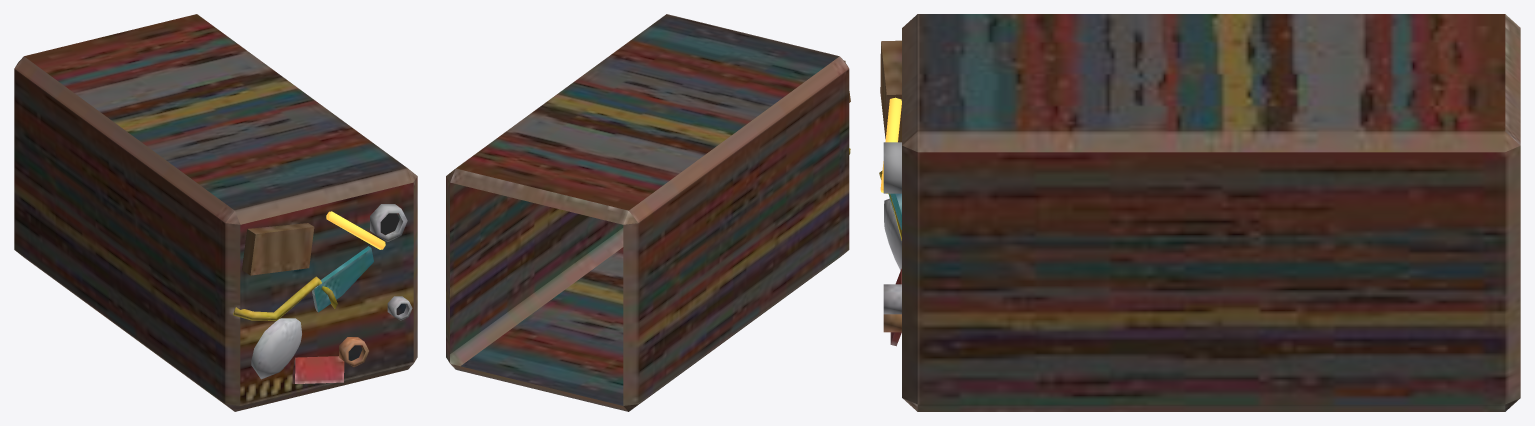
File: tile_junk.glb
The picture shows the model from 3 angles, left to right: view 1: azimuth 30°, elevation 25°; view 2: azimuth 150°, elevation 25°; view 3: azimuth 270°, elevation 25°; orthographic projection. The views are drawn at different scales.
Visible parts, largest first — view 1: tile_junk; view 2: tile_junk; view 3: tile_junk.
Boxes of the visible parts, <box> form: tile_junk: <box>14,14,417,411</box>; tile_junk: <box>446,14,850,411</box>; tile_junk: <box>879,14,1520,411</box>.
Bounding box in the file's own units: 1 × 1 × 2.07.
Materials: 2 (1 with a texture image).
